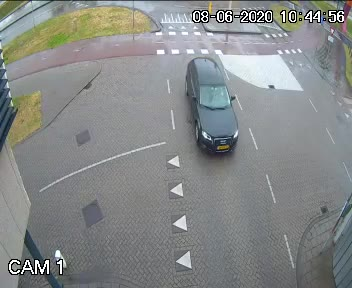car: (178, 51, 244, 171)
